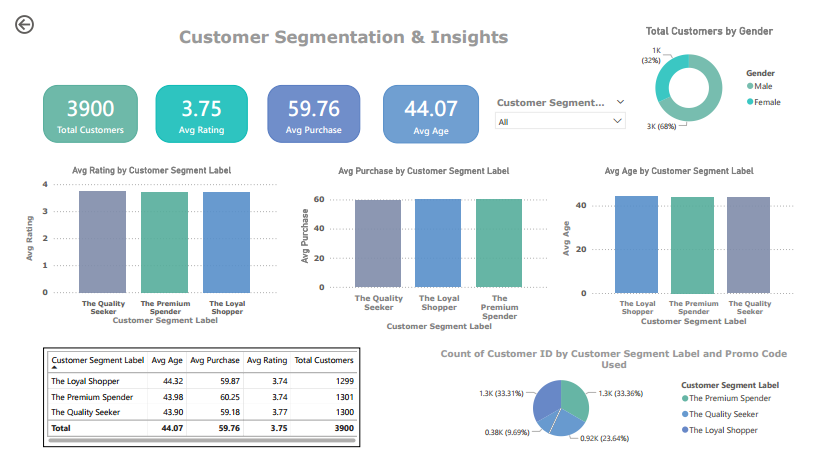

The page's visual inventory and layout, read from the dashboard file:
{"tool":"powerbi","page":{"name":"Page 1","canvas":[1280,720],"ordinal":0},"visuals":[{"type":"tableEx","fields":{"Values":["Sheet1.Customer Segment Label","Sheet1.Avg Age","Sheet1.Avg Purchase","Sheet1.Avg Rating","Sheet1.Total Customers"]},"box":[49.7,536.8,507.5,159.4],"z":0},{"type":"card","title":"Total Customer","fields":{"Values":["Sheet1.Total Customers"]},"box":[49.7,117.3,151.7,91.8],"z":1000},{"type":"card","fields":{"Values":["Sheet1.Avg Purchase"]},"box":[409.3,117.3,147.9,91.8],"z":2000},{"type":"card","fields":{"Values":["Sheet1.Avg Rating"]},"box":[229.5,117.3,147.9,91.8],"z":3000},{"type":"card","fields":{"Values":["Sheet1.Avg Age"]},"box":[594.2,117.3,153,93.1],"z":4000},{"type":"columnChart","fields":{"Category":["Sheet1.Customer Segment Label"],"Y":["Sheet1.Avg Purchase"]},"box":[454.9,245.8,408.4,267.8],"z":5000},{"type":"donutChart","fields":{"Category":["Sheet1.Gender"],"Y":["Sheet1.Total Customers"]},"box":[985.7,20.4,260.1,183.6],"z":6000},{"type":"slicer","fields":{"Values":["Sheet1.Customer Segment Label"]},"box":[762.5,130.1,229.5,66.3],"z":7000},{"type":"columnChart","fields":{"Category":["Sheet1.Customer Segment Label"],"Y":["Sheet1.Avg Rating"]},"box":[18.3,244.6,410.9,260.5],"z":8000},{"type":"columnChart","fields":{"Category":["Sheet1.Customer Segment Label"],"Y":["Sheet1.Avg Age"]},"box":[876.8,245.8,381.5,260.5],"z":9000},{"type":"actionButton","box":[0,0,100,40],"z":10000},{"type":"pieChart","fields":{"Category":["Sheet1.Customer Segment Label"],"Y":["CountNonNull(Sheet1.Customer ID)"],"Series":["Sheet1.Promo Code Used"]},"box":[680.9,536.8,564.9,159.4],"z":11000},{"type":"textbox","box":[69.7,18.3,922,45.2],"z":12000}]}

Visuals, with their boxes in screenshot pixels (x1, y1, x2, y2), scaled from the page's 1280x720 canvas onto the 827x475 screenshot:
tableEx - Sheet1.Customer Segment Label x Sheet1.Avg Age: BBox(32, 354, 360, 459)
"Total Customer" card: BBox(32, 77, 130, 138)
card - Sheet1.Avg Purchase: BBox(264, 77, 360, 138)
card - Sheet1.Avg Rating: BBox(148, 77, 244, 138)
card - Sheet1.Avg Age: BBox(384, 77, 483, 139)
columnChart - Sheet1.Customer Segment Label x Sheet1.Avg Purchase: BBox(294, 162, 558, 339)
donutChart - Sheet1.Gender x Sheet1.Total Customers: BBox(637, 13, 805, 135)
slicer - Sheet1.Customer Segment Label: BBox(493, 86, 641, 130)
columnChart - Sheet1.Customer Segment Label x Sheet1.Avg Rating: BBox(12, 161, 277, 333)
columnChart - Sheet1.Customer Segment Label x Sheet1.Avg Age: BBox(566, 162, 813, 334)
actionButton: BBox(0, 0, 65, 26)
pieChart - Sheet1.Customer Segment Label x CountNonNull(Sheet1.Customer ID): BBox(440, 354, 805, 459)
textbox: BBox(45, 12, 641, 42)
